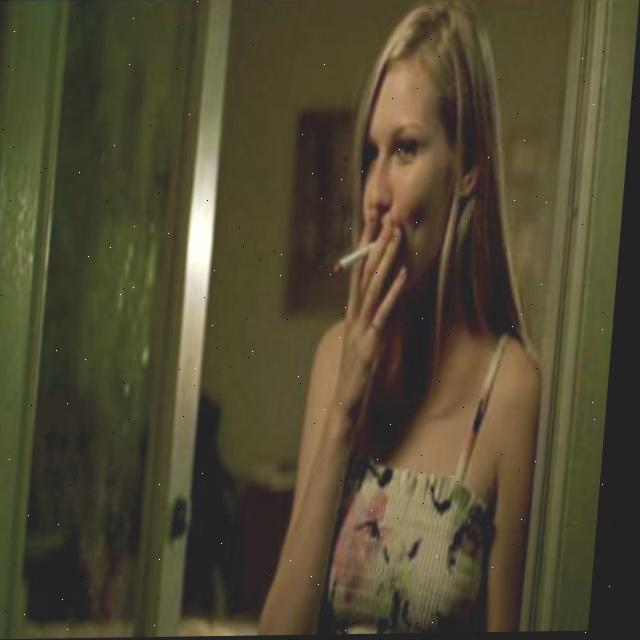cigarette: (335, 240, 383, 277)
